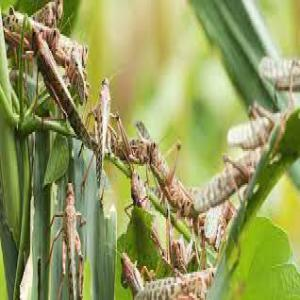locust: (177, 124, 269, 226), (32, 26, 92, 130), (58, 180, 93, 299)
